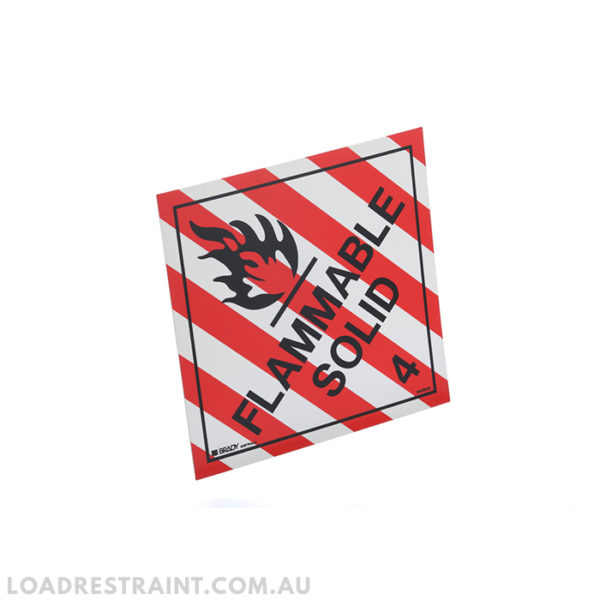FlammableSolid: (166, 161, 453, 447)
